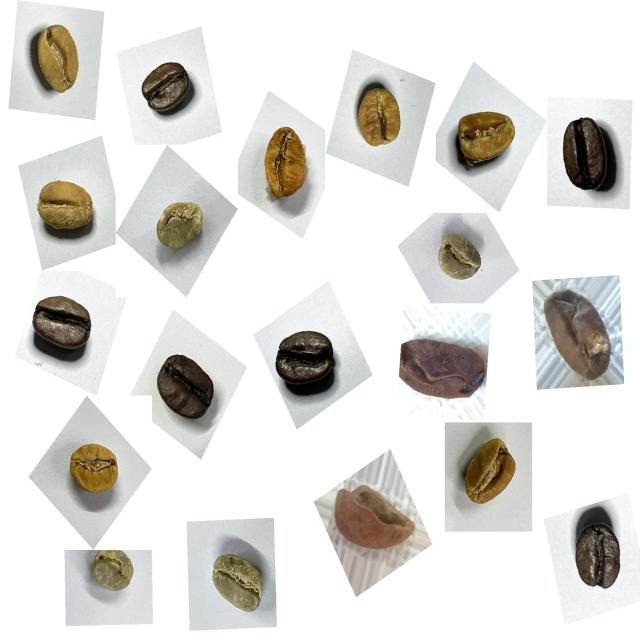bad: (533, 280, 619, 392), (393, 323, 490, 411), (326, 471, 416, 558)
dark: (546, 102, 624, 202), (265, 314, 343, 408), (560, 507, 633, 605), (25, 284, 104, 374), (149, 339, 225, 432), (134, 50, 202, 124)
green: (198, 540, 272, 626), (146, 188, 212, 268), (428, 222, 490, 293), (82, 541, 141, 604)
light: (247, 112, 319, 212), (446, 95, 526, 185), (450, 429, 526, 522), (21, 12, 94, 107), (30, 166, 106, 253), (339, 72, 412, 162), (61, 428, 131, 512)
